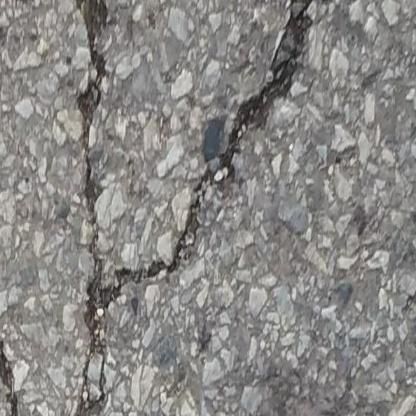Cracks: (69, 0, 324, 416), (0, 302, 29, 416), (271, 0, 362, 7), (2, 0, 52, 4)
